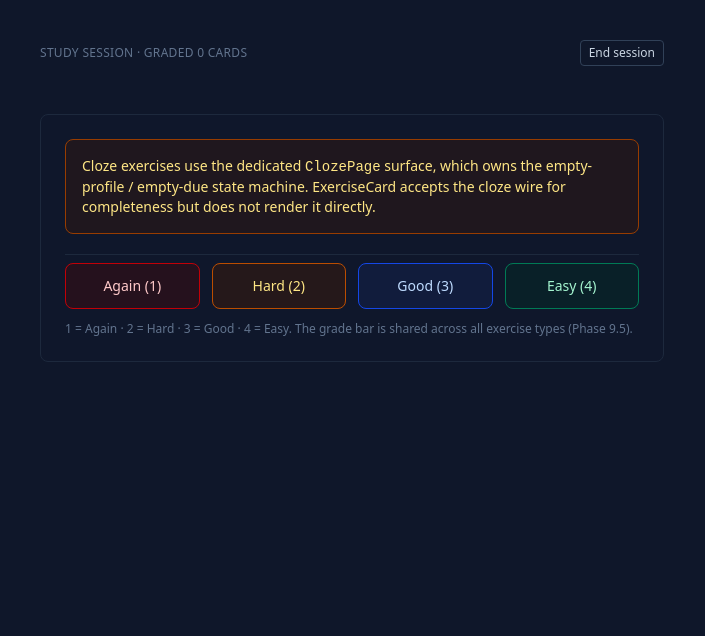
Test: SessionPage mixer (Phase 9.6) › renders the head pick via the shared ExerciseCard and advances on grade
The width and height of the screenshot is (705, 636).
Expected: the element with test id "exercise-card-cloze" is shown, [16,74,688,402]
Click the button with test id "grade-button-4". click: click(572, 286)
box: [504,263,639,309]
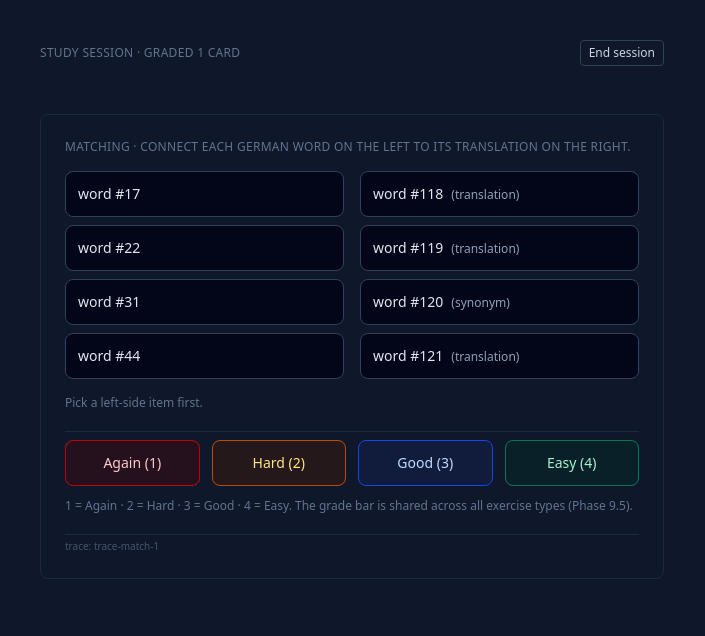
Now the element with test id "exercise-card-matching" is shown
Click the button with test id "grade-button-4". click: click(572, 463)
box: [504,440,639,486]
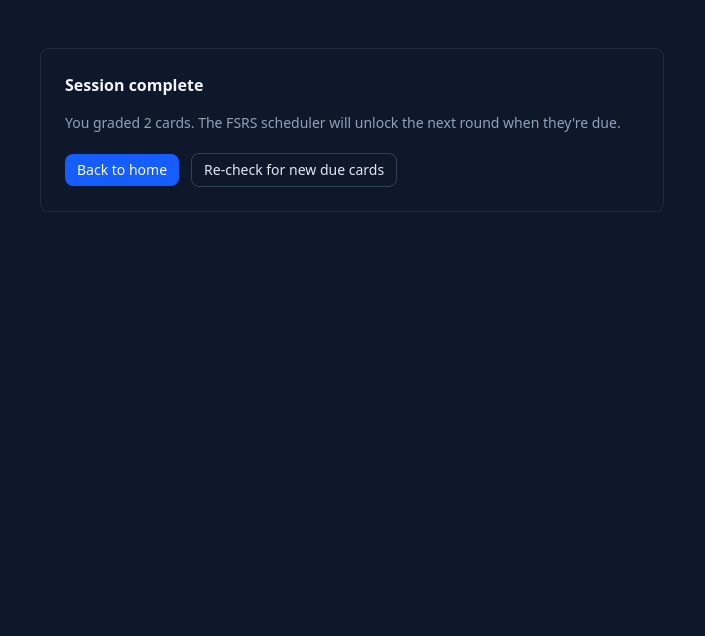
Now the element with test id "session-done" is shown, box [16,0,688,260]
Now the element with test id "exercise-card-matching" is gone
